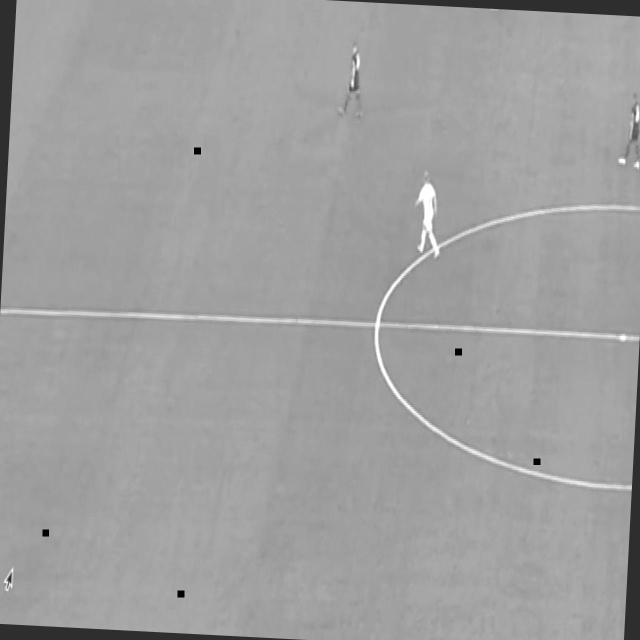player-white: (411, 168, 445, 262), (338, 39, 368, 120), (619, 89, 640, 166), (481, 8, 502, 12)
